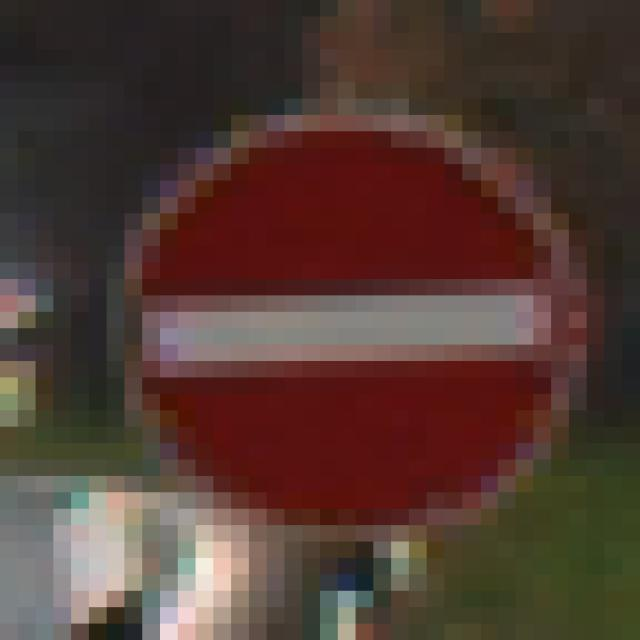No Entry: (90, 83, 552, 543)
